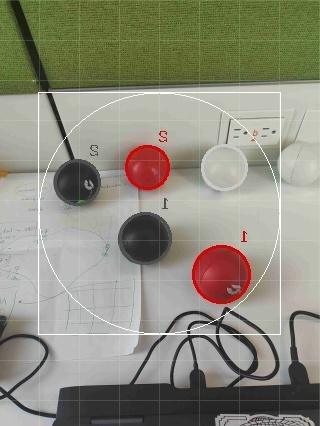Pelota blanca: (0, 331, 55, 416), (287, 308, 320, 384), (199, 142, 249, 192), (279, 140, 320, 187)
Pelota negra: (117, 209, 175, 264), (53, 158, 103, 206)
Pelota roja: (191, 244, 254, 304), (125, 142, 172, 192)
